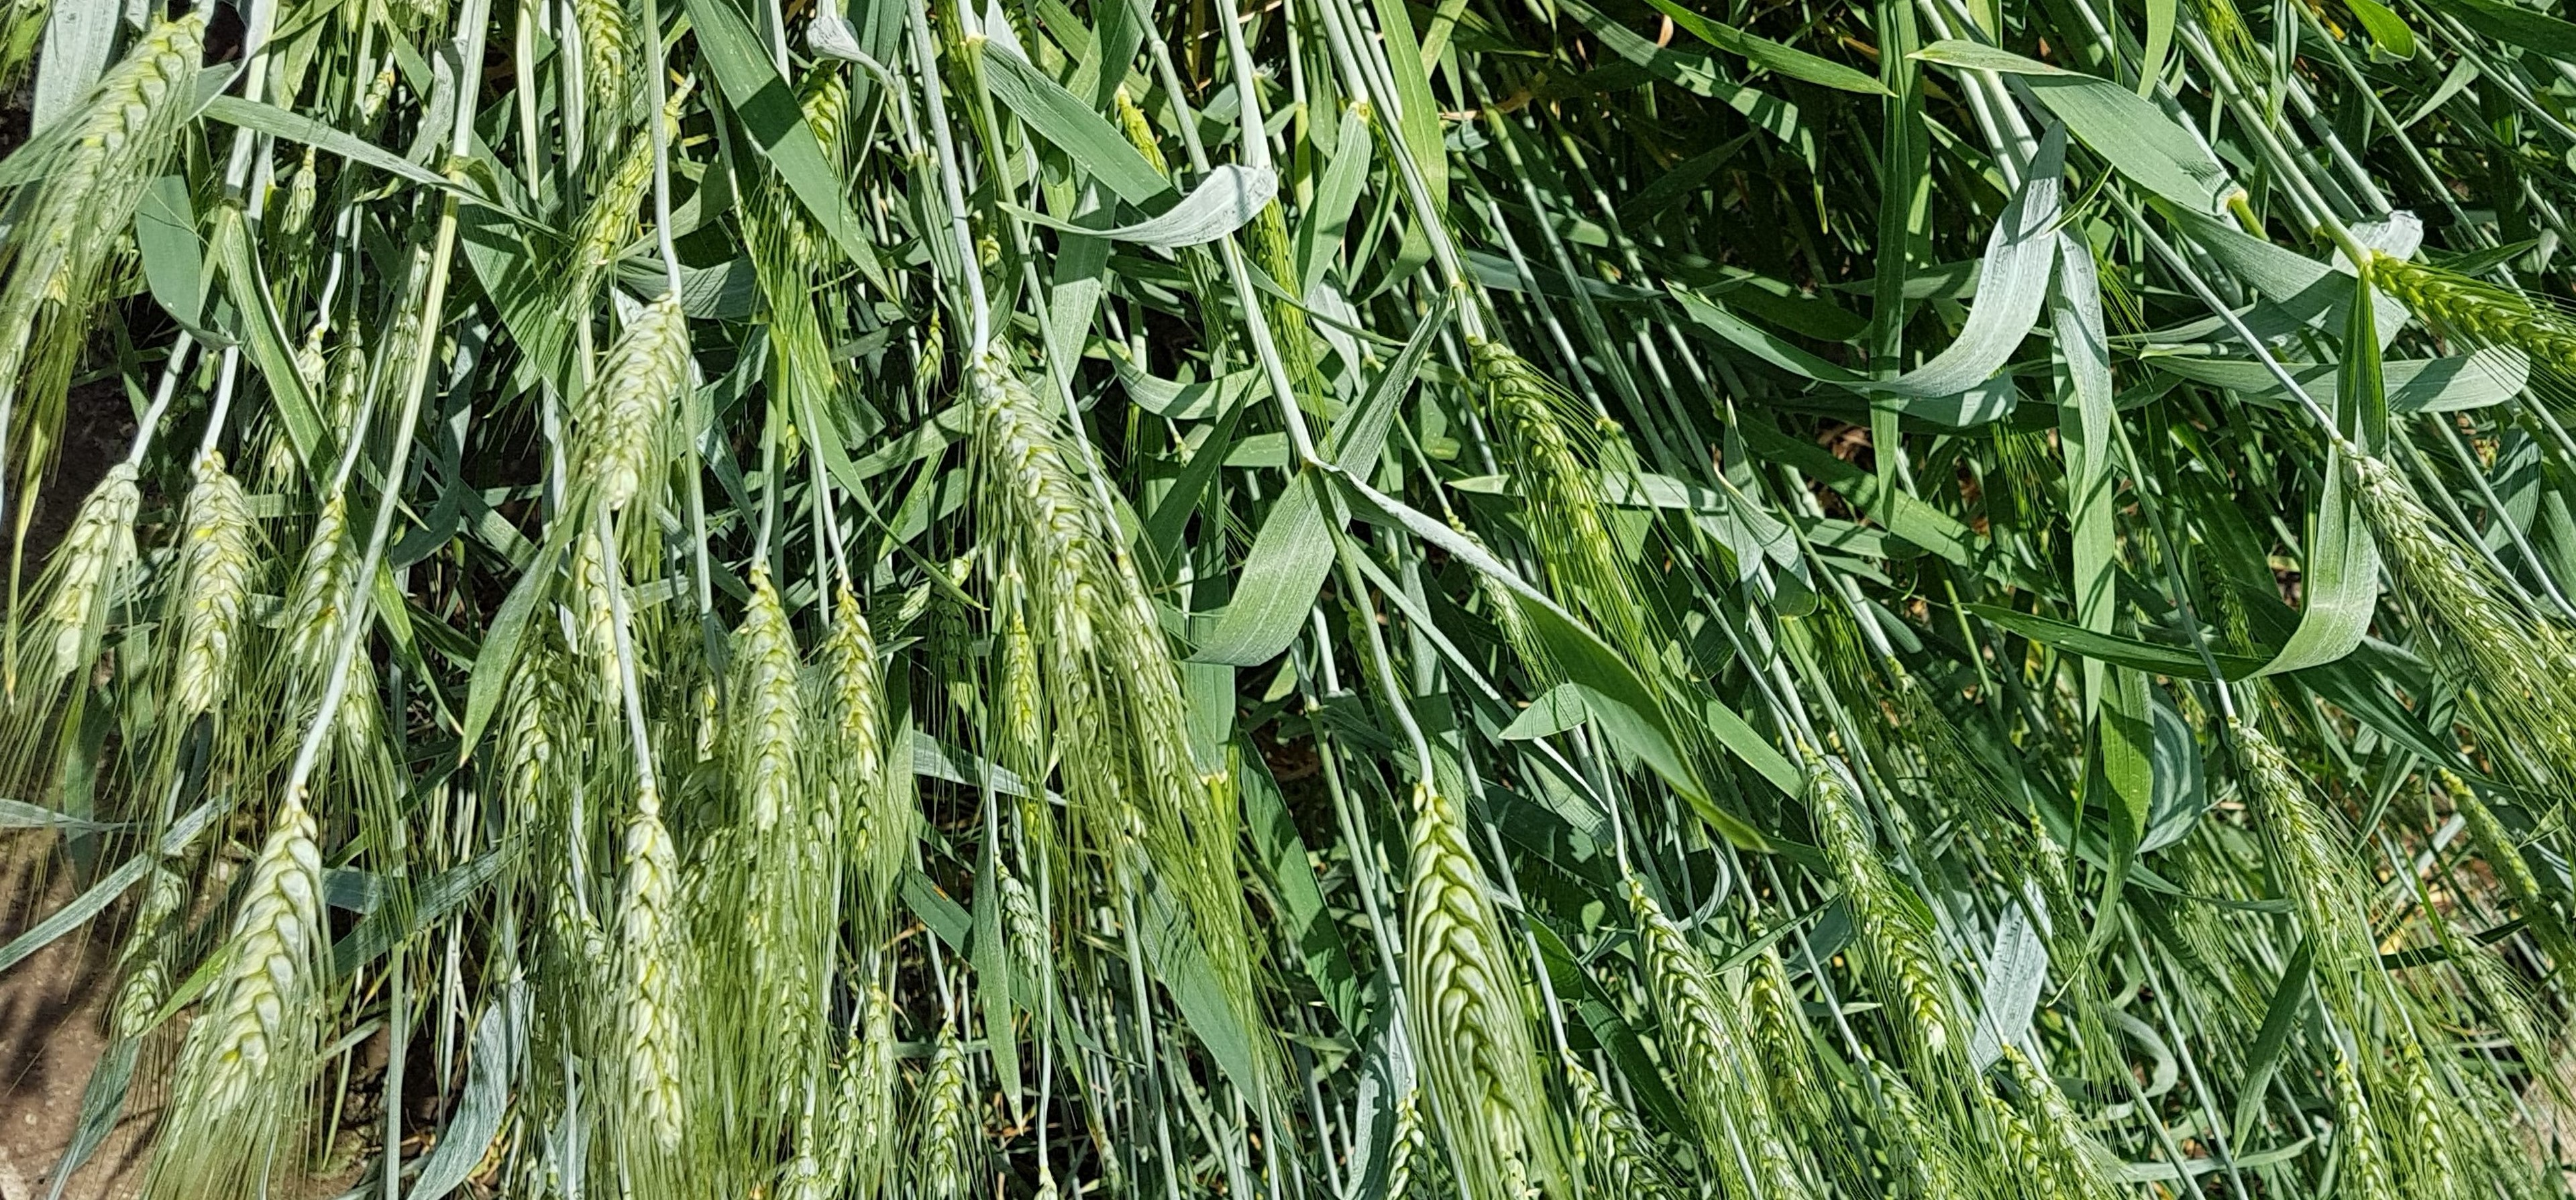Healthy Wheat: (1357, 762, 1556, 1162), (1446, 314, 1677, 616), (2333, 433, 2576, 712), (168, 804, 343, 1149), (713, 556, 900, 840), (945, 340, 1120, 596), (591, 250, 711, 532), (1615, 882, 1751, 1087)
